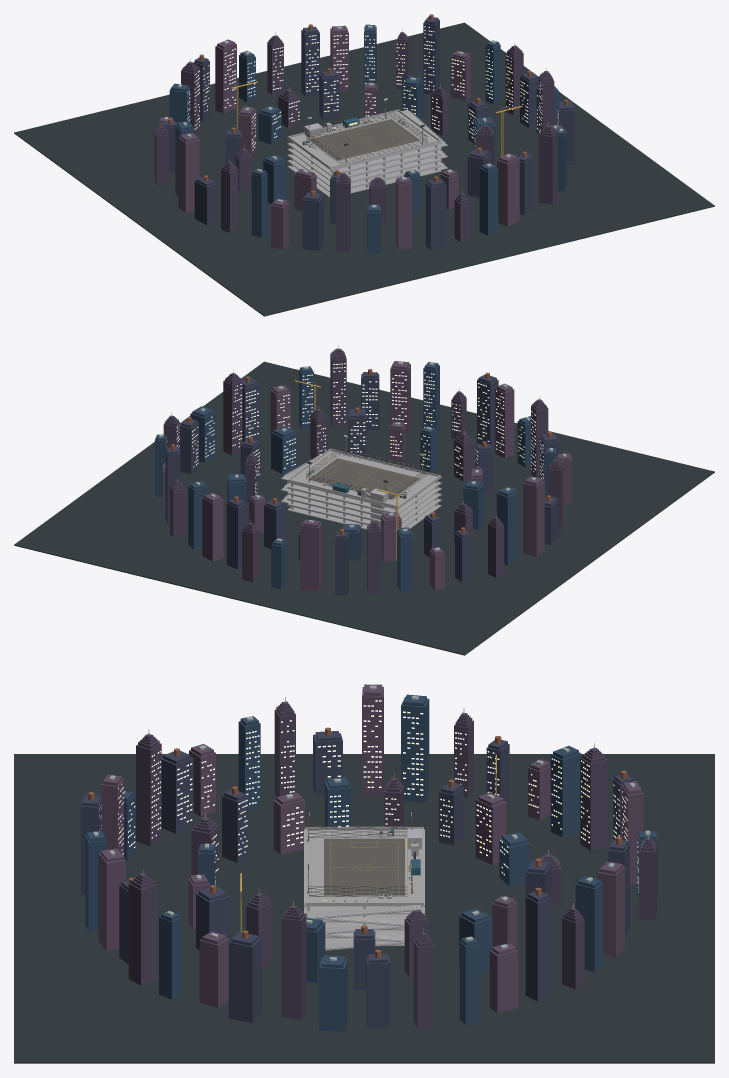
Rendered from the-top-deck.glb.
The picture shows the model from 3 angles, top to bottom: view 1: azimuth 30°, elevation 25°; view 2: azimuth 150°, elevation 25°; view 3: azimuth 270°, elevation 25°; orthographic projection. The views are drawn at different scales.
Visible parts, largest first — view 1: 01 • Midtown skyline, 01 • Six level garage, Painted rooftop court, 01 • Clubhouse and access core; view 2: 01 • Midtown skyline, 01 • Six level garage, Painted rooftop court, 01 • Clubhouse and access core; view 3: 01 • Midtown skyline, 01 • Six level garage, Painted rooftop court, 01 • Clubhouse and access core.
Part boxes in pixels (x1,y1,x2,y2): 01 • Midtown skyline: [14, 14, 714, 316]; 01 • Six level garage: [287, 109, 447, 197]; Painted rooftop court: [308, 119, 419, 160]; 01 • Clubhouse and access core: [302, 98, 428, 162]; 01 • Midtown skyline: [14, 345, 714, 655]; 01 • Six level garage: [281, 446, 441, 529]; Painted rooftop court: [308, 458, 420, 499]; 01 • Clubhouse and access core: [307, 434, 424, 525]; 01 • Midtown skyline: [14, 684, 714, 1063]; 01 • Six level garage: [304, 826, 424, 950]; Painted rooftop court: [324, 838, 404, 895]; 01 • Clubhouse and access core: [307, 812, 422, 901].
Bounding box in the file's own units: 260 × 45.58 × 250.
Materials: 26 (3 with a texture image).
